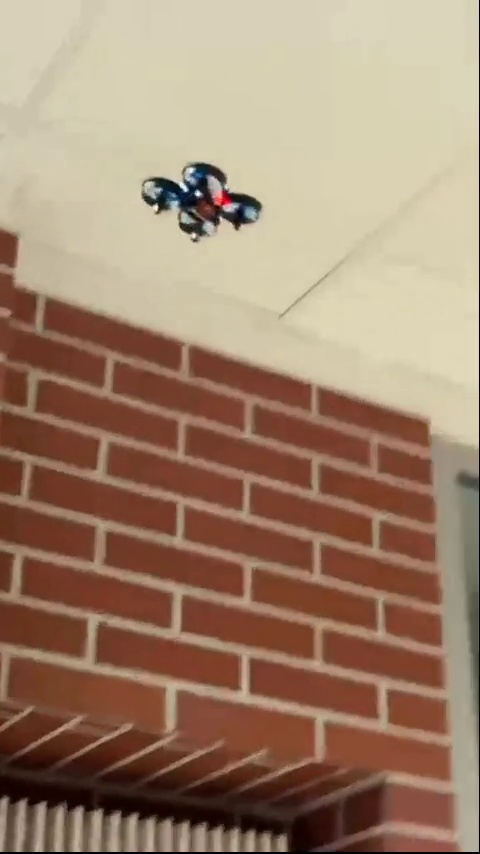drone: (144, 162, 262, 249)
